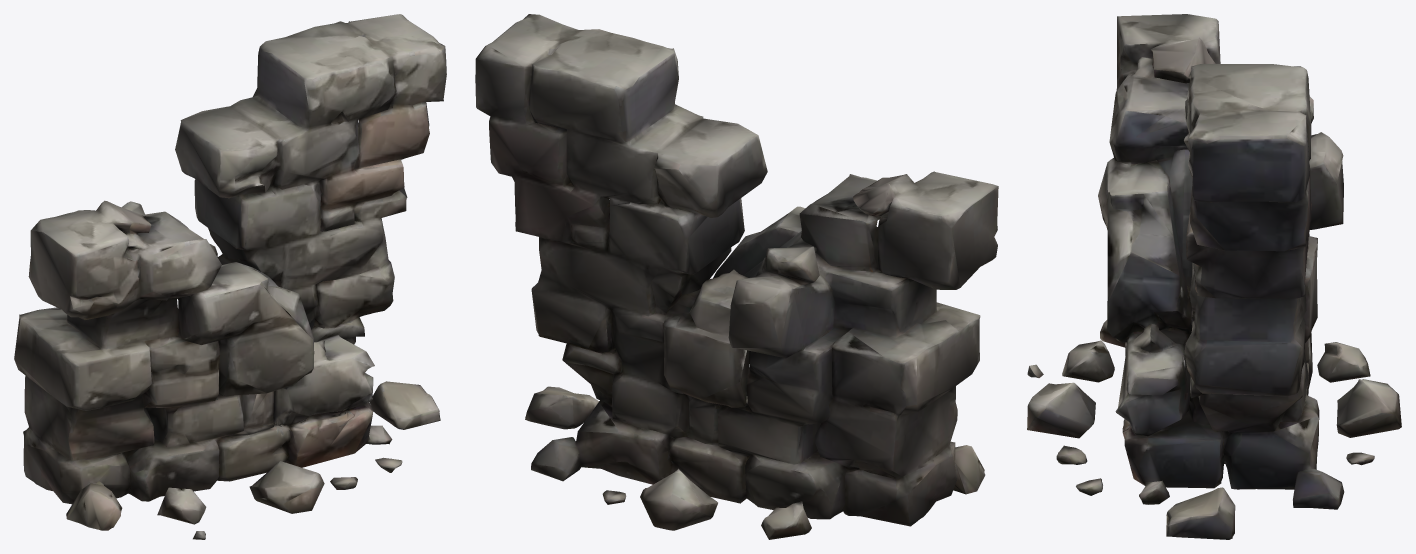
The model's file is deb_stone.glb.
3 views of the same model, side by side, from view 1: azimuth 30°, elevation 25°; view 2: azimuth 150°, elevation 25°; view 3: azimuth 270°, elevation 25° (orthographic). The views are drawn at different scales.
Parts seen in each view (by area): view 1: tripo_node_97ef42f2; view 2: tripo_node_97ef42f2; view 3: tripo_node_97ef42f2.
Boxes of the visible parts, x1,y1,x2,y2 form: tripo_node_97ef42f2: (14, 14, 446, 539); tripo_node_97ef42f2: (475, 14, 998, 539); tripo_node_97ef42f2: (1027, 14, 1401, 539).
Size of the model in its own units: 99.23 by 85.5 by 69.98.
Materials: 1 (1 with a texture image).
